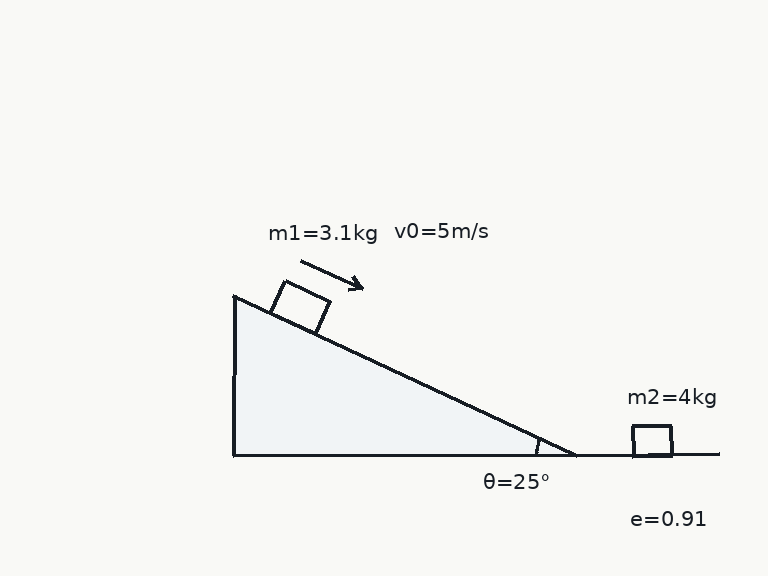block: (268, 278, 331, 335), (630, 424, 674, 457)
ramp: (231, 293, 578, 457)
